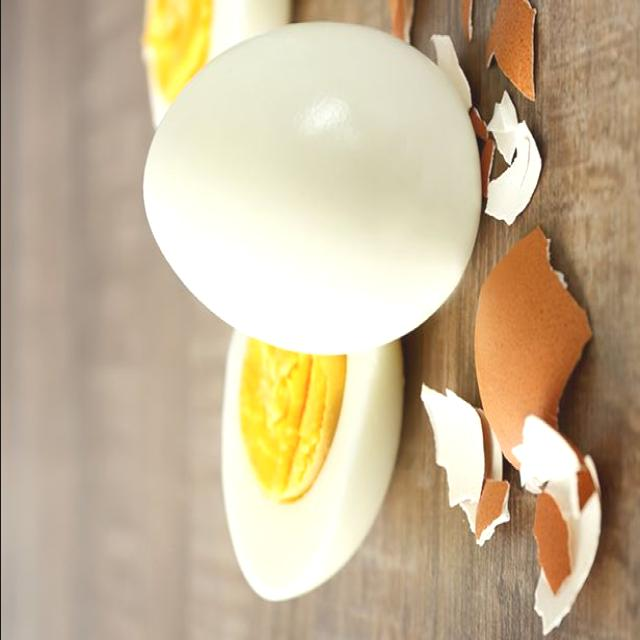telur rebus: (142, 20, 488, 356), (220, 329, 407, 604)
